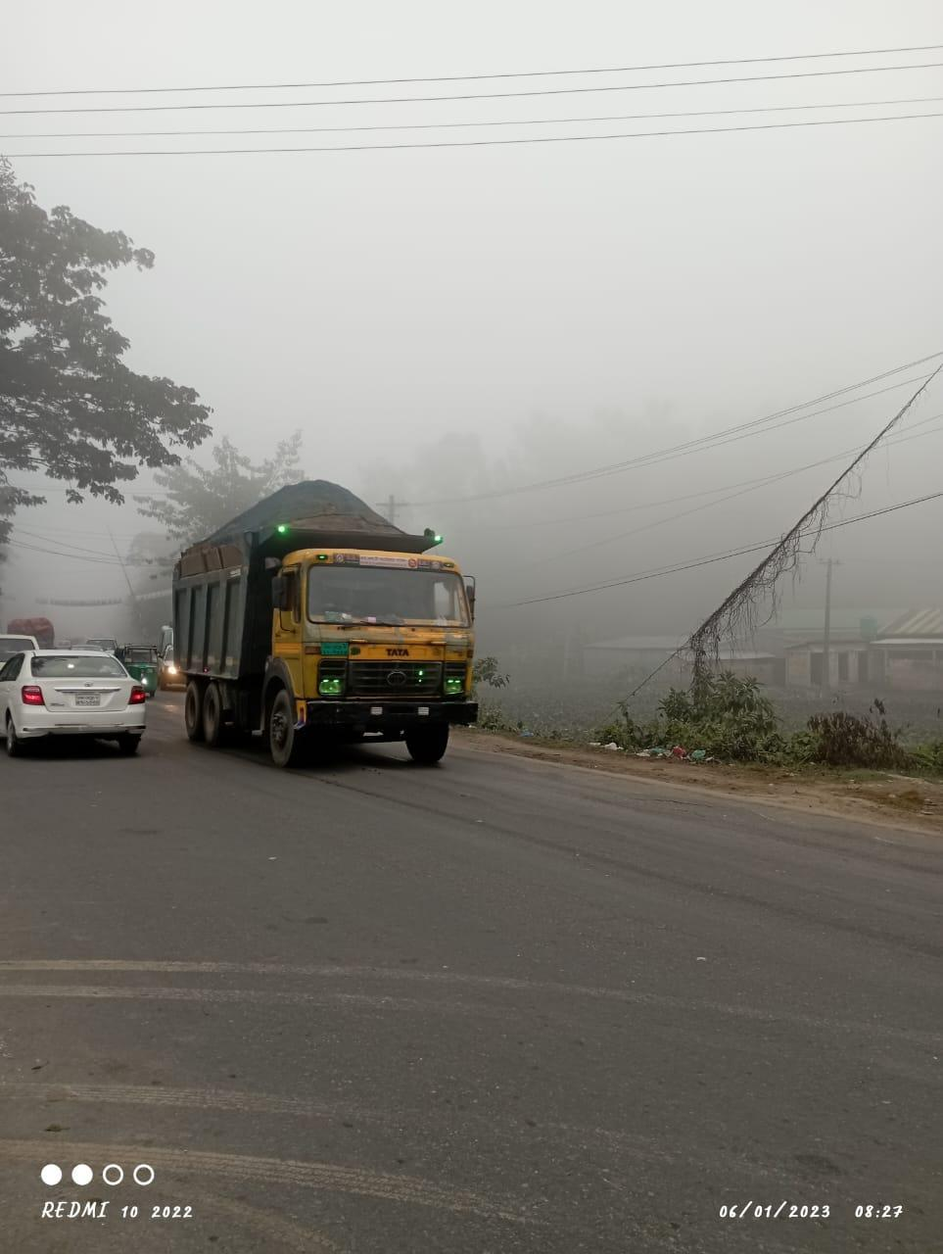Car: (4, 635, 150, 757)
Truck: (158, 471, 513, 787)
